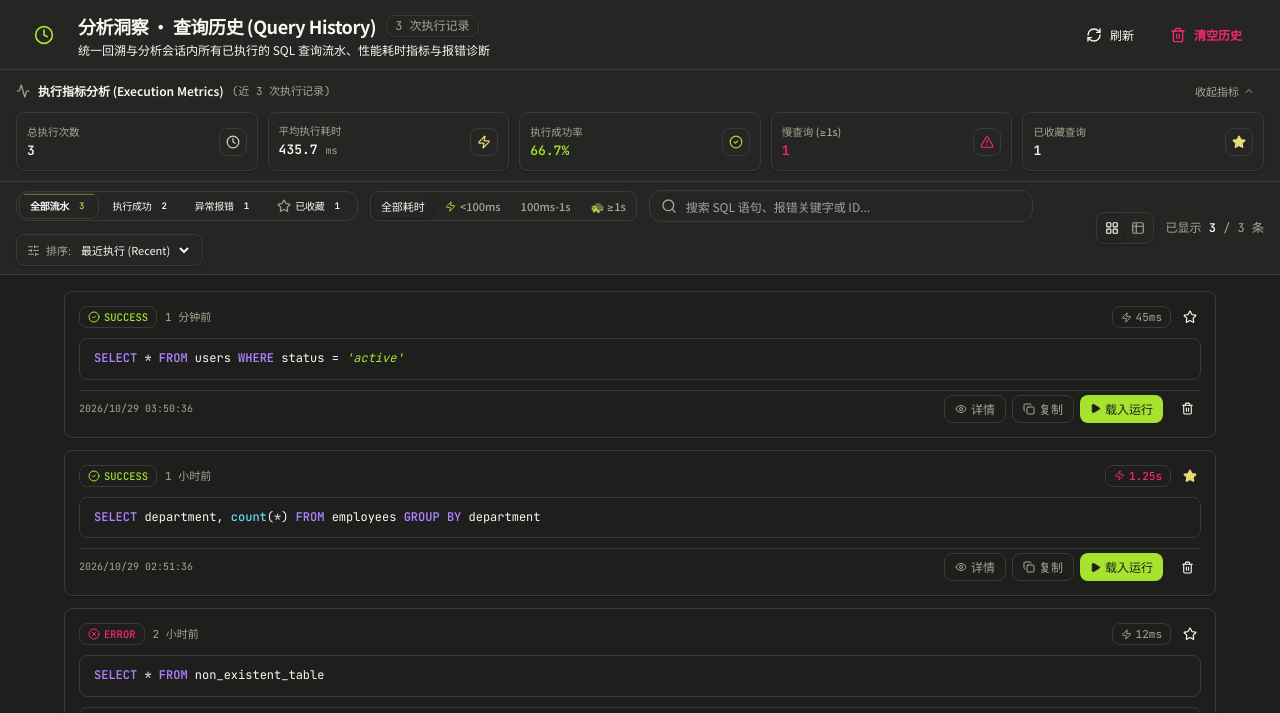
Test: HistoryTab workbench › opens HistoryDetailDrawer when clicking a query item
The width and height of the screenshot is (1280, 713).
Click the button titled "查看详情分析" in the row of "2026/10/29 03:50:36": click(975, 408) [944,394,1006,422]
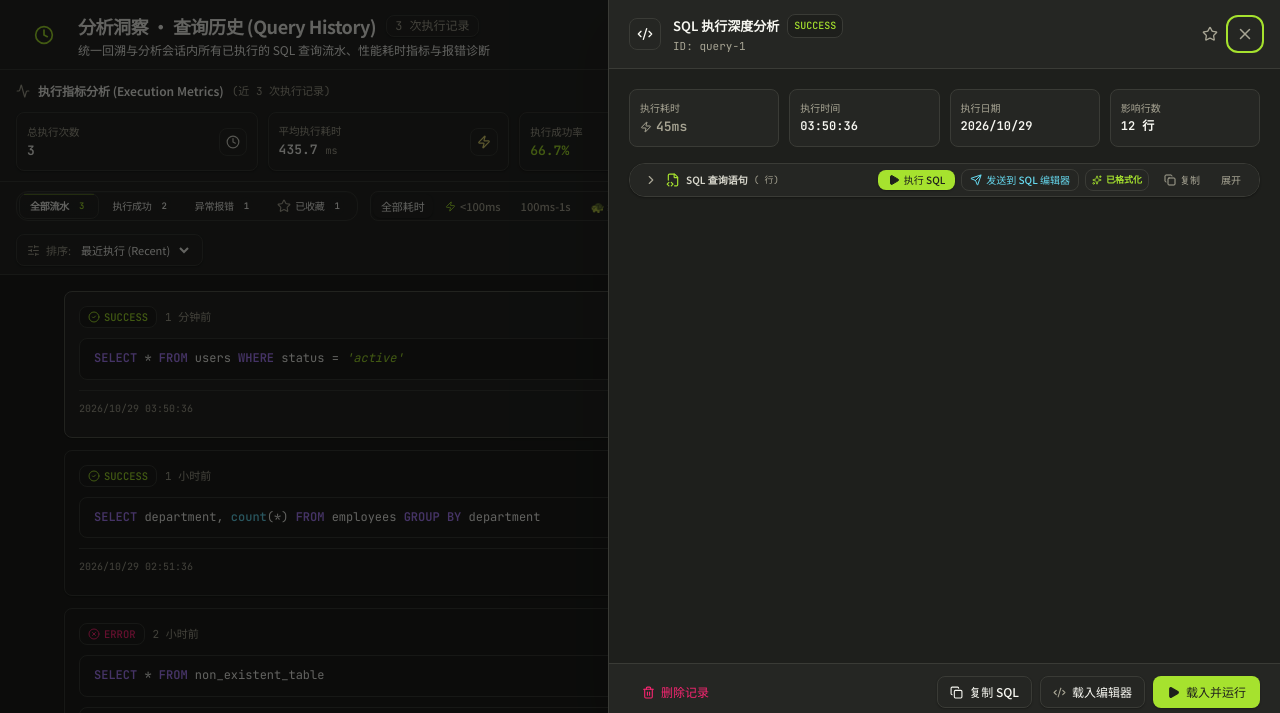
expect the text "SQL 执行深度分析" is shown: met, box [673,17,779,35]
expect the text "SQL 查询语句" is shown: met, box [686,172,748,188]
expect the text "已格式化" is shown: met, box [1106,172,1142,188]
